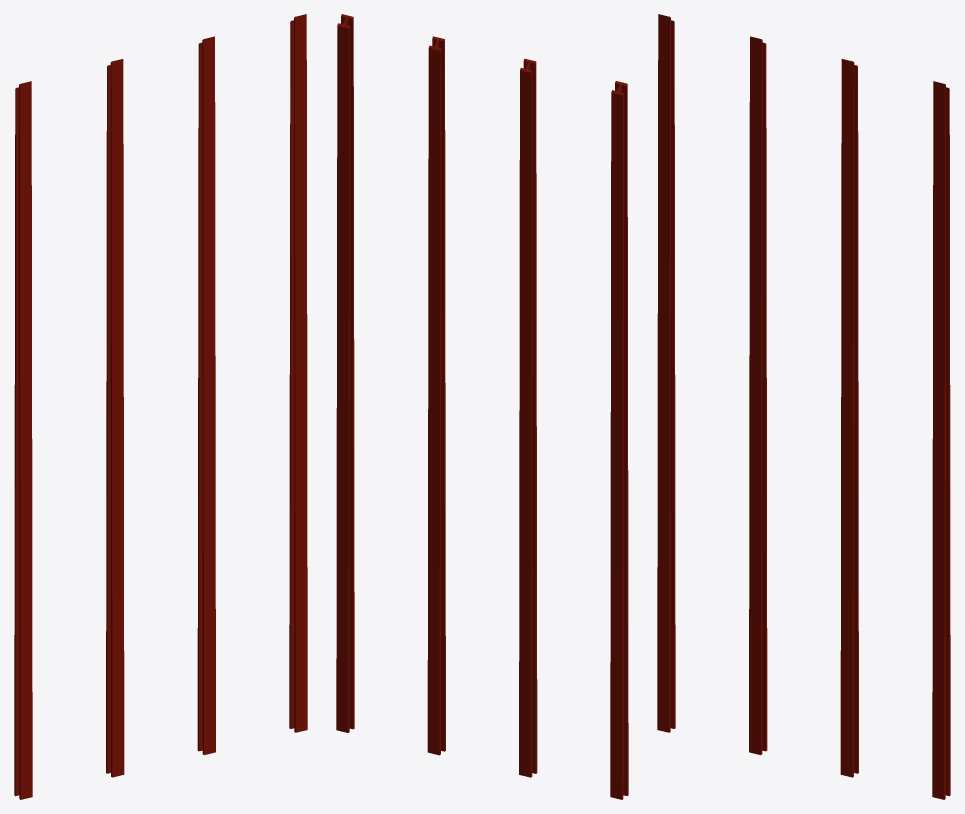
Rendered from I-beam_004.gltf.
The picture shows the model from 3 angles, left to right: view 1: azimuth 30°, elevation 25°; view 2: azimuth 150°, elevation 25°; view 3: azimuth 330°, elevation 25°; orthographic projection.
Visible parts, largest first — view 1: I-beam.004; view 2: I-beam.004; view 3: I-beam.004.
Part boxes in pixels (box(x1,y1,x2,y2)): I-beam.004: box(14, 14, 307, 799); I-beam.004: box(336, 14, 628, 799); I-beam.004: box(657, 14, 950, 799).
Bounding box in the file's own units: 12.65 × 30.12 × 0.4907.
